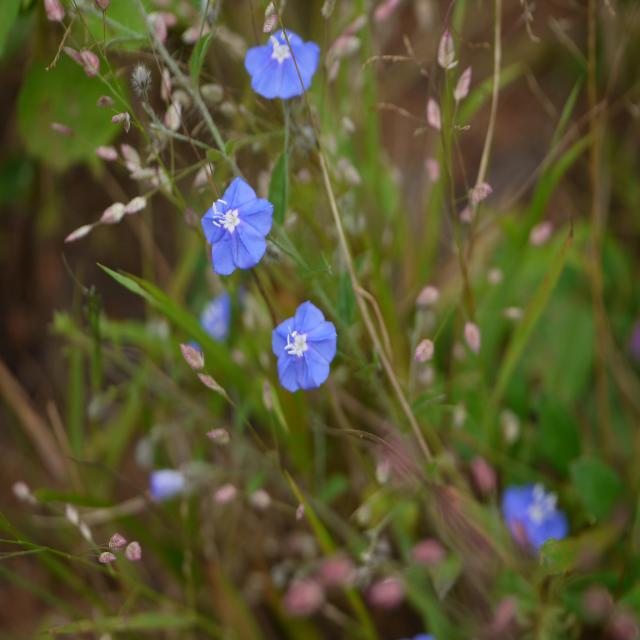organic waste: (196, 170, 286, 268), (240, 21, 337, 102), (266, 296, 344, 388), (492, 488, 574, 566)
